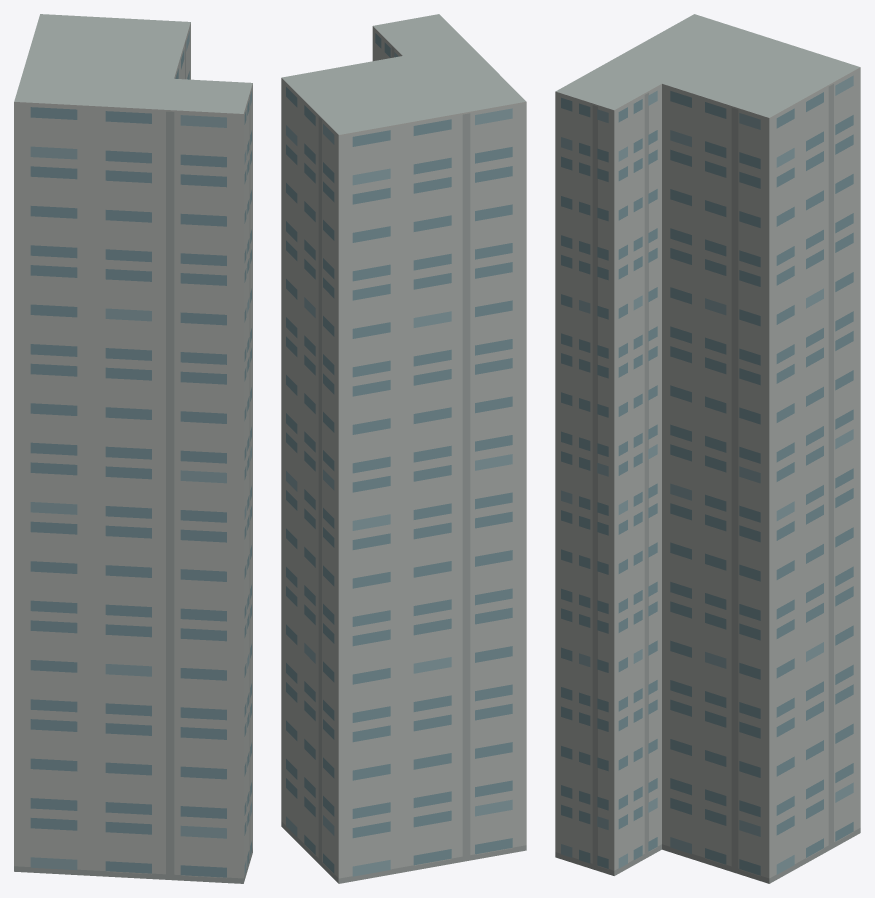
The model's file is residential-f60fb165-6996-47a6-b839-32b2dc063f99.glb.
3 renders of one model, left to right at view 1: azimuth 30°, elevation 25°; view 2: azimuth 150°, elevation 25°; view 3: azimuth 270°, elevation 25°, orthographic. The views are drawn at different scales.
Parts seen in each view (by area): view 1: residential-f60fb165-6996-47a6-b839-32b2dc063f99.tmp; view 2: residential-f60fb165-6996-47a6-b839-32b2dc063f99.tmp; view 3: residential-f60fb165-6996-47a6-b839-32b2dc063f99.tmp.
Boxes of the visible parts, bbox=[...] form: residential-f60fb165-6996-47a6-b839-32b2dc063f99.tmp: bbox=[14, 14, 252, 883]; residential-f60fb165-6996-47a6-b839-32b2dc063f99.tmp: bbox=[281, 14, 526, 883]; residential-f60fb165-6996-47a6-b839-32b2dc063f99.tmp: bbox=[555, 14, 860, 883].
Size of the model in its own units: 34.67 by 119 by 42.96.
